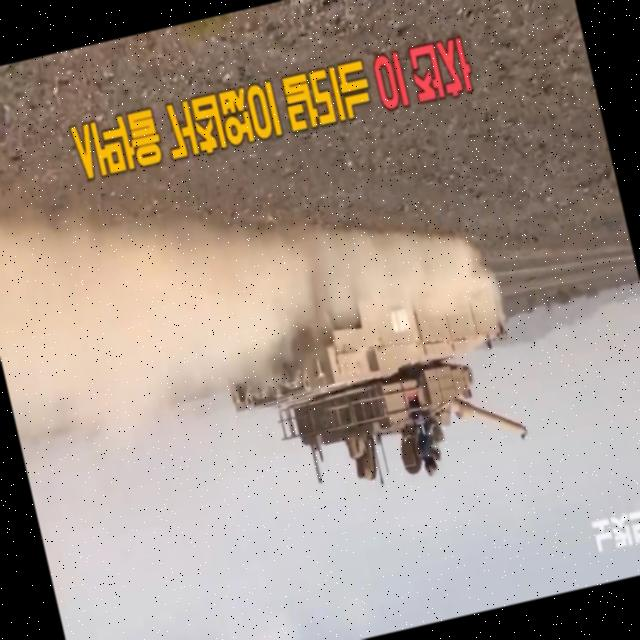korea tank: (200, 222, 536, 520)
